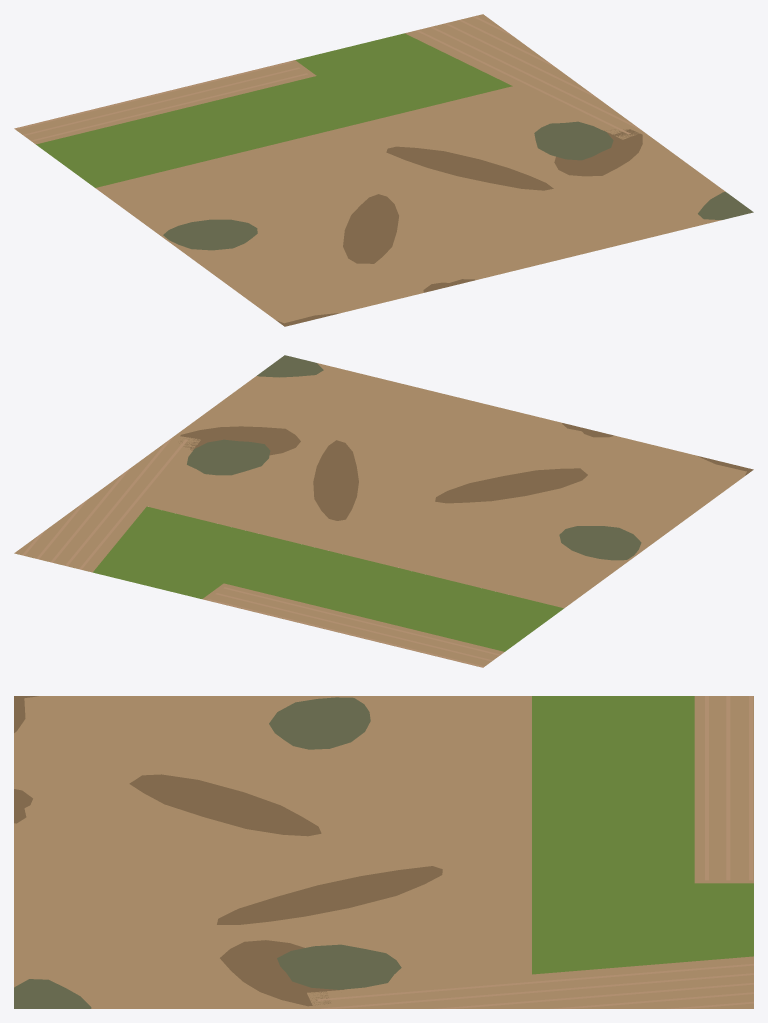
File: crossing-4-2.glb
3 renders of one model, top to bottom at view 1: azimuth 30°, elevation 25°; view 2: azimuth 150°, elevation 25°; view 3: azimuth 270°, elevation 25°, orthographic. The views are drawn at different scales.
Visible parts, largest first — view 1: crossing-4-2; view 2: crossing-4-2; view 3: crossing-4-2.
Part boxes in pixels (box(x1,y1,x2,y2)): crossing-4-2: box(14, 14, 753, 326); crossing-4-2: box(14, 355, 753, 667); crossing-4-2: box(14, 696, 753, 1008).
Size of the model in its own units: 100 by 0.0064 by 100.
